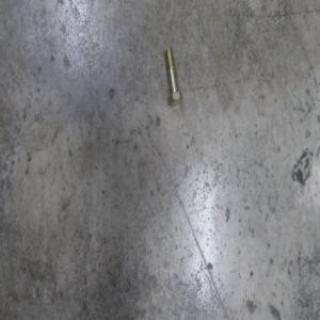Bolttrack_idkeyframe: (165, 44, 183, 104)
